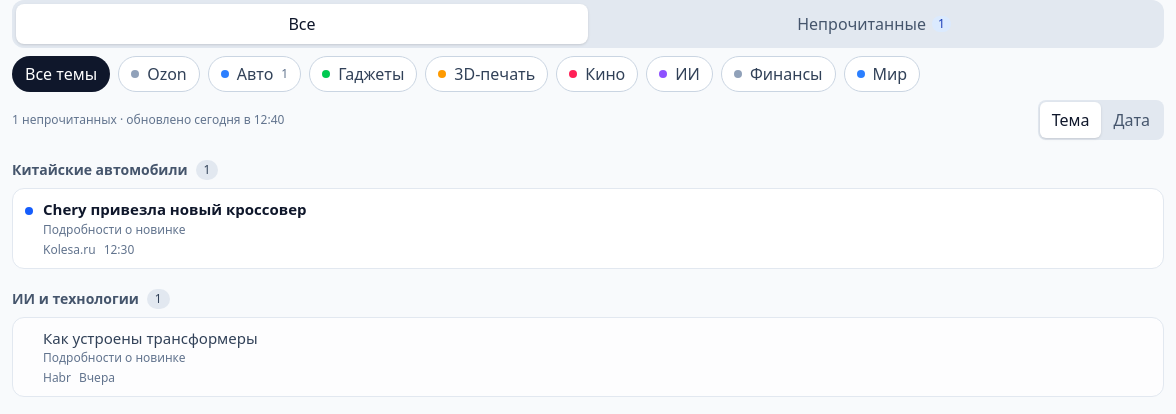
Test: экран «Новости» › фильтрует по теме и сбрасывает фильтры
The image size is (1176, 414).
Step 1. Click the button with aria-label "ИИ и технологии" → (680, 74), box top-left (646, 56), bottom-right (713, 92)
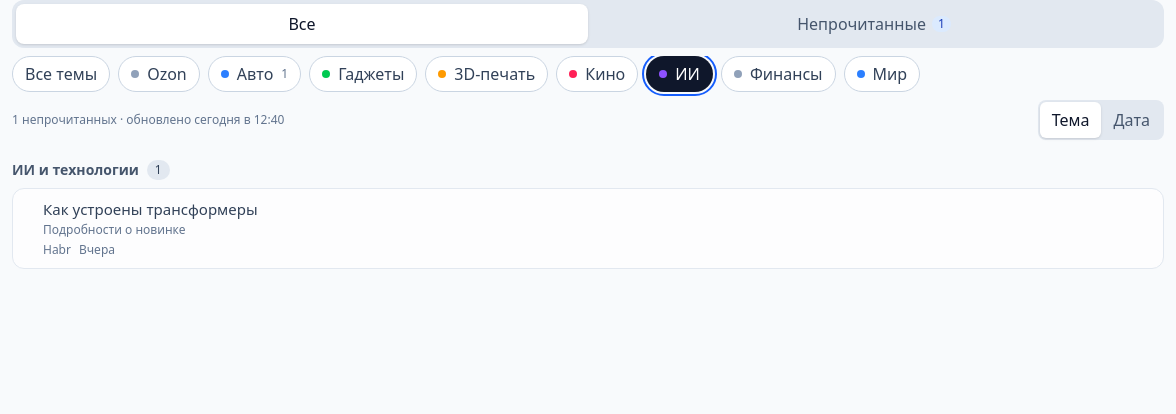
Expected: the link "Chery привезла новый кроссовер" is gone
Step 2. Click the tab "Непрочитанные 1" → (874, 24), box top-left (588, 4), bottom-right (1160, 44)
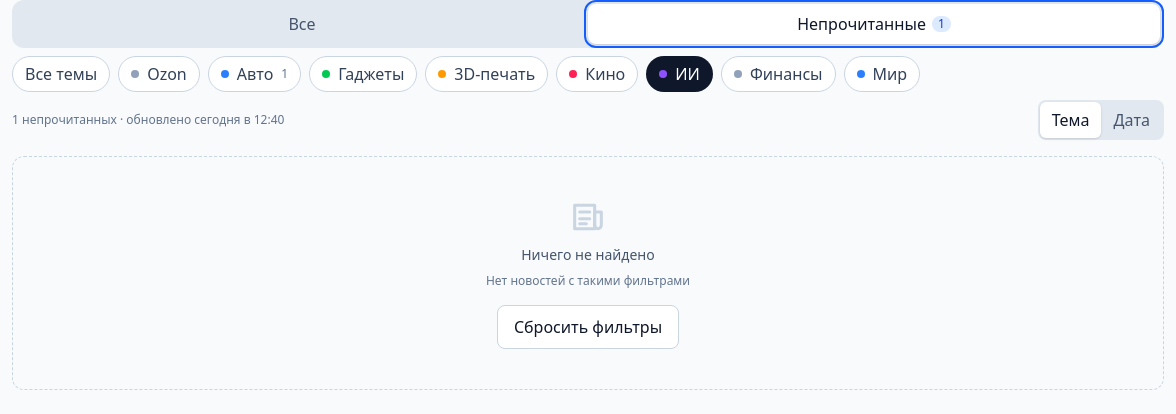
Expected: the text "Ничего не найдено" is shown, top-left (521, 245), bottom-right (655, 265)
Step 3. Click the button "Сбросить фильтры" → (588, 327), box top-left (497, 305), bottom-right (679, 349)
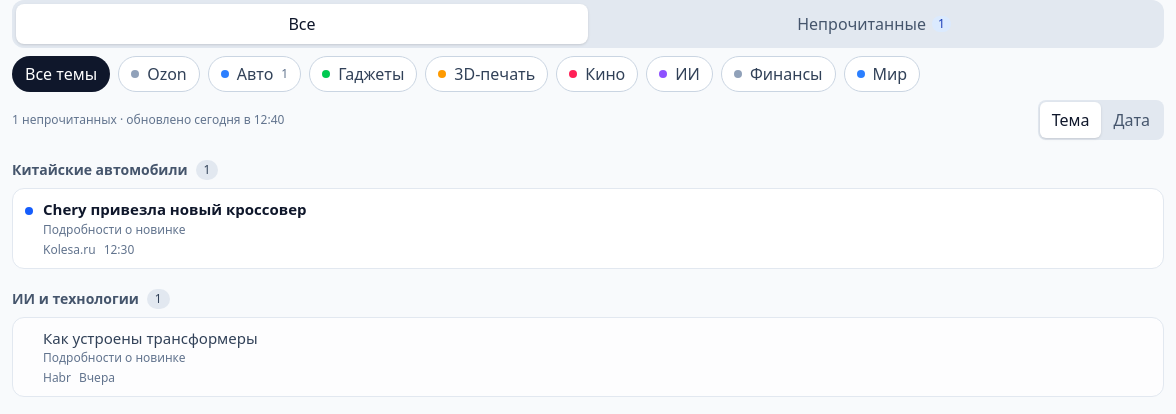
Expected: the text "Chery привезла новый кроссовер" is shown, top-left (43, 199), bottom-right (306, 219)
